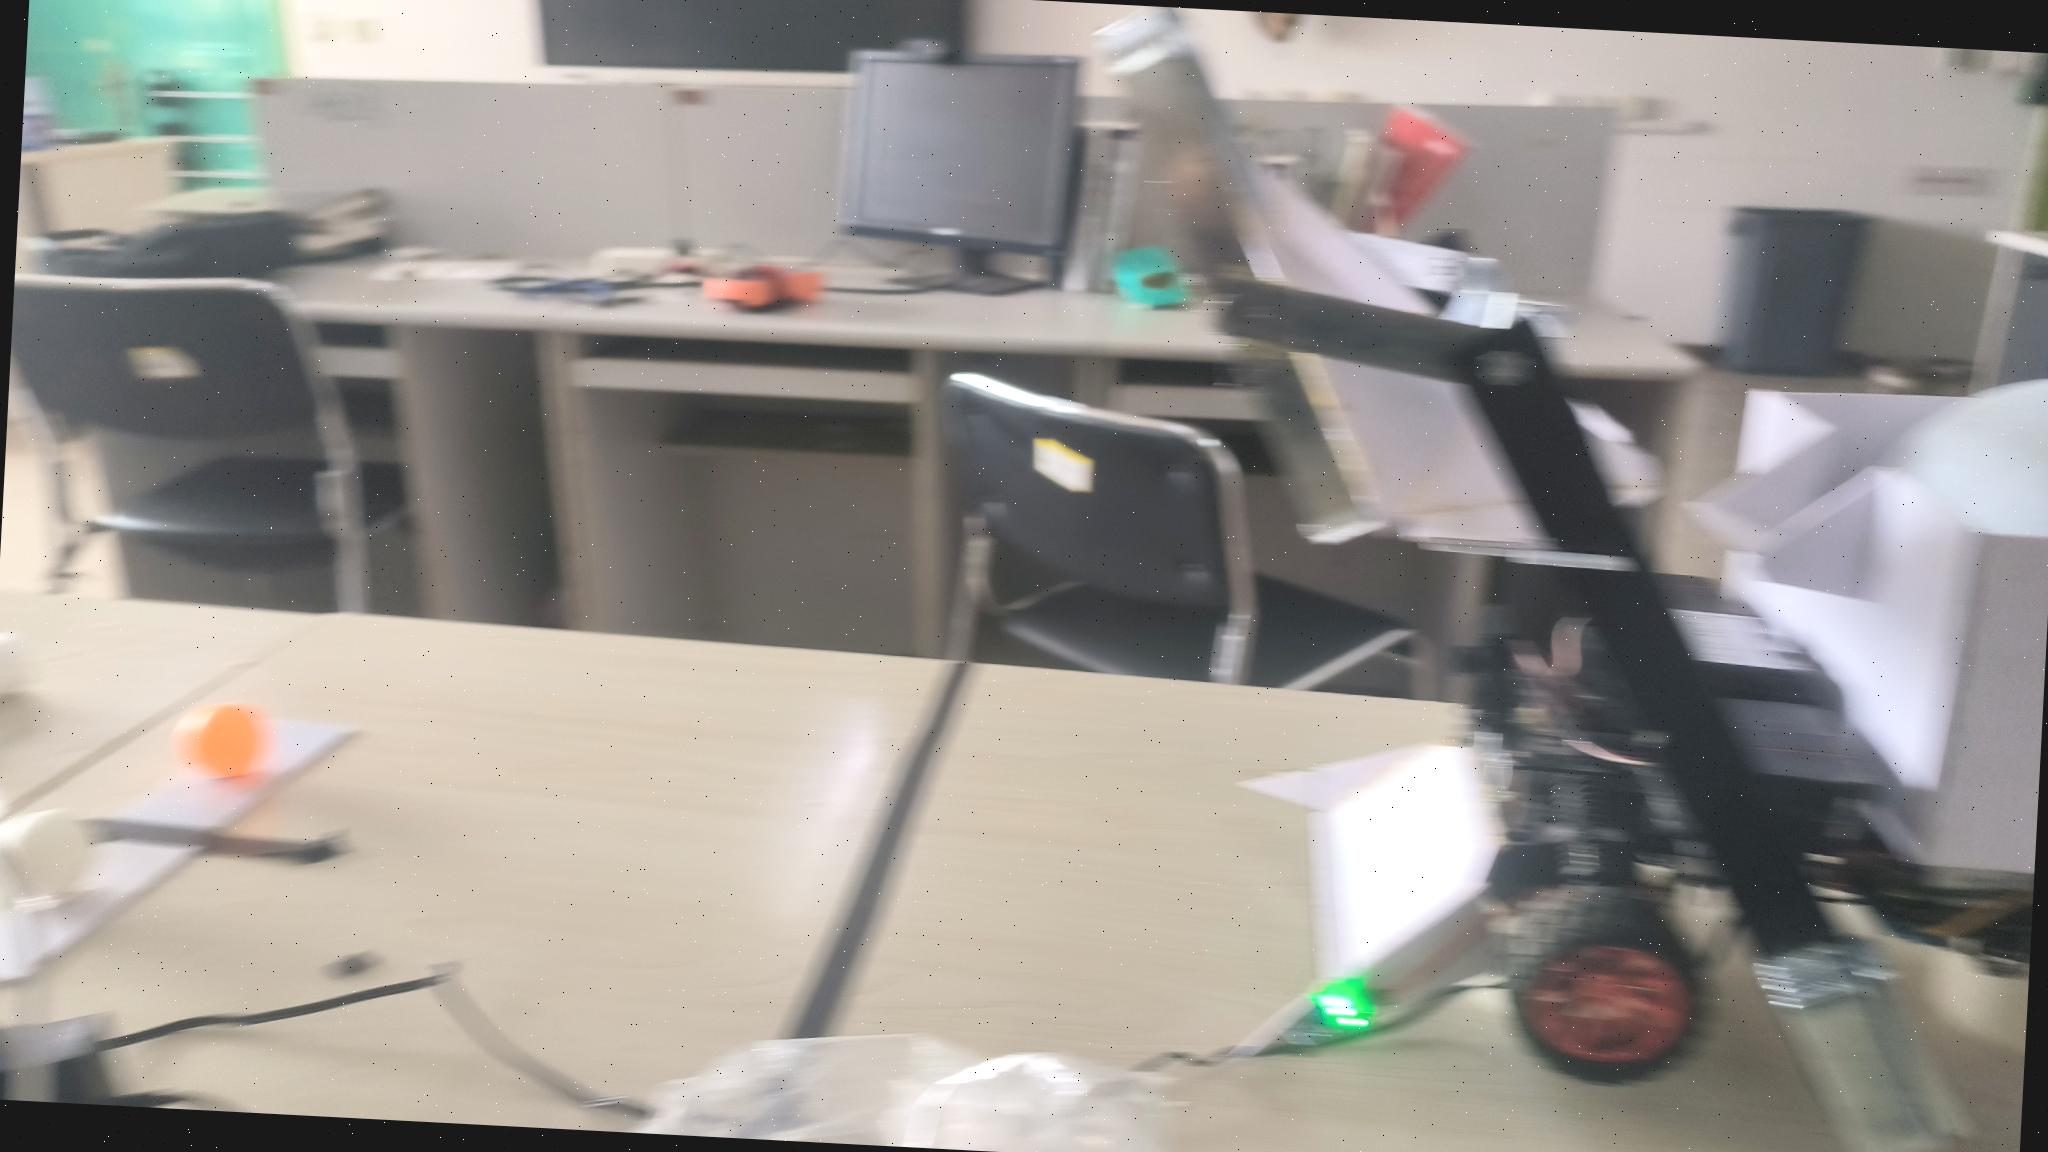ball: (1, 810, 93, 899), (173, 698, 269, 779)
